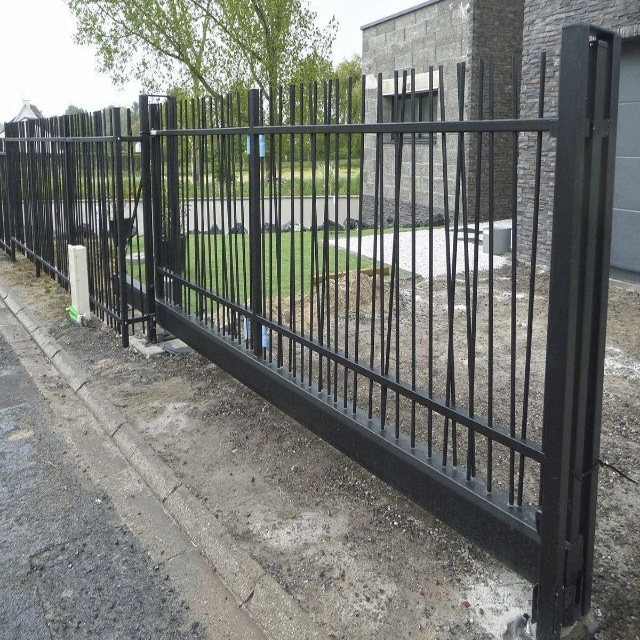obstacle: (3, 75, 638, 604)
